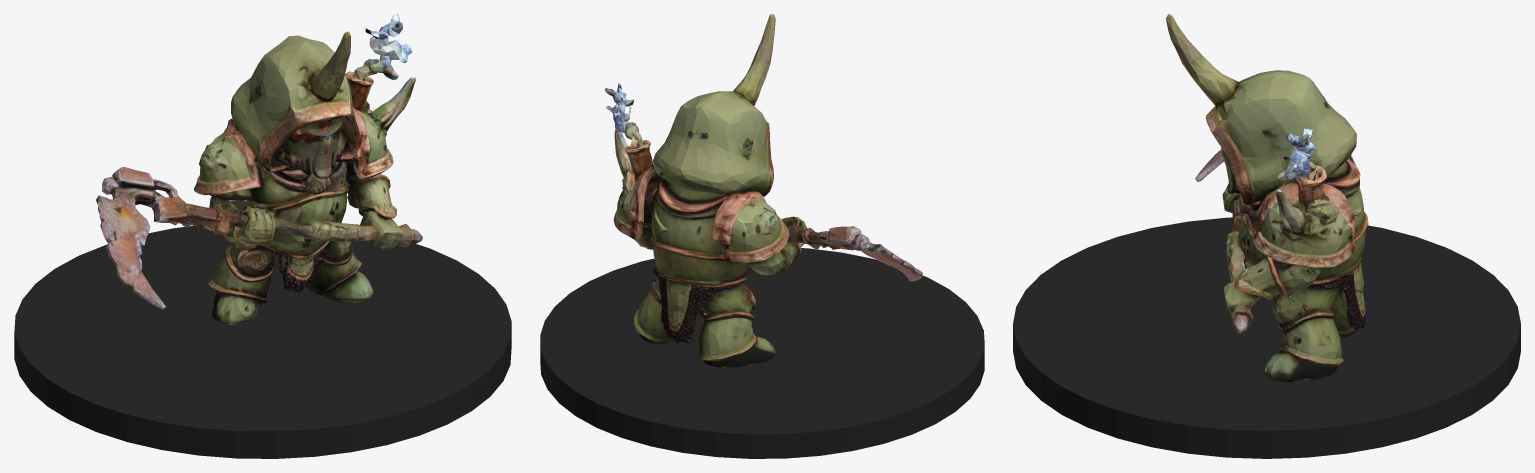
File: typhus.glb
3 renders of one model, left to right at view 1: azimuth 30°, elevation 25°; view 2: azimuth 150°, elevation 25°; view 3: azimuth 270°, elevation 25°, orthographic. The views are drawn at different scales.
Visible parts, largest first — view 1: base, figure; view 2: base, figure; view 3: base, figure.
Boxes of the visible parts, left/top/right/bottom form: base: left=14, top=225, right=511, bottom=458; figure: left=96, top=14, right=422, bottom=325; base: left=540, top=248, right=984, bottom=458; figure: left=604, top=14, right=922, bottom=367; base: left=1013, top=217, right=1520, bottom=458; figure: left=1166, top=14, right=1368, bottom=381.
Bounding box in the file's own units: 1.97 × 1.52 × 1.97.
2 materials, 1 textured.
